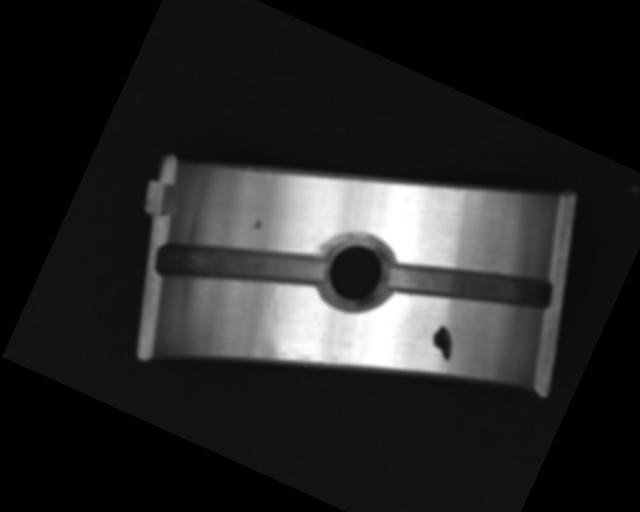blot: (425, 323, 462, 362)
bruise: (251, 216, 264, 230)
gap: (152, 196, 329, 335), (386, 220, 557, 346)
hole: (310, 222, 400, 318)
nick: (257, 284, 293, 332)
